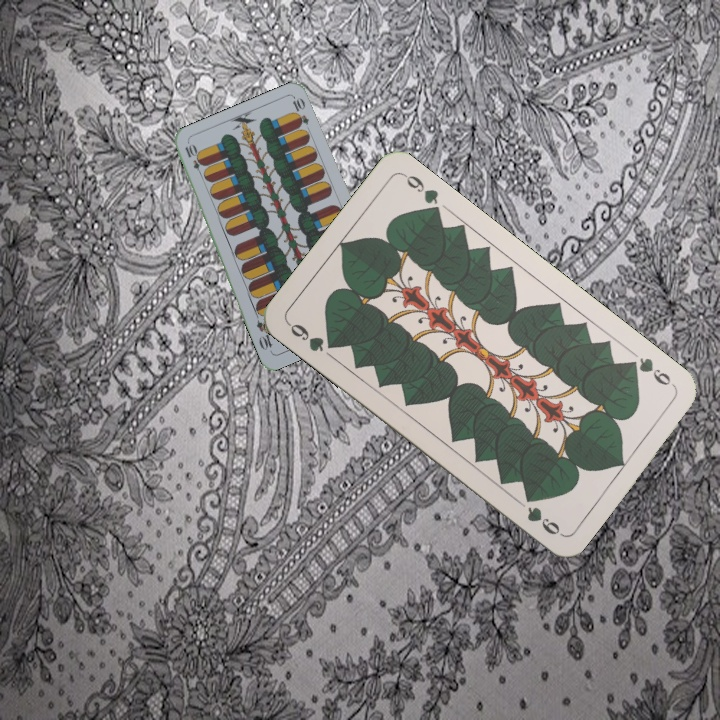E10: (181, 140, 207, 179)
G9: (622, 348, 678, 390), (283, 319, 340, 355)
